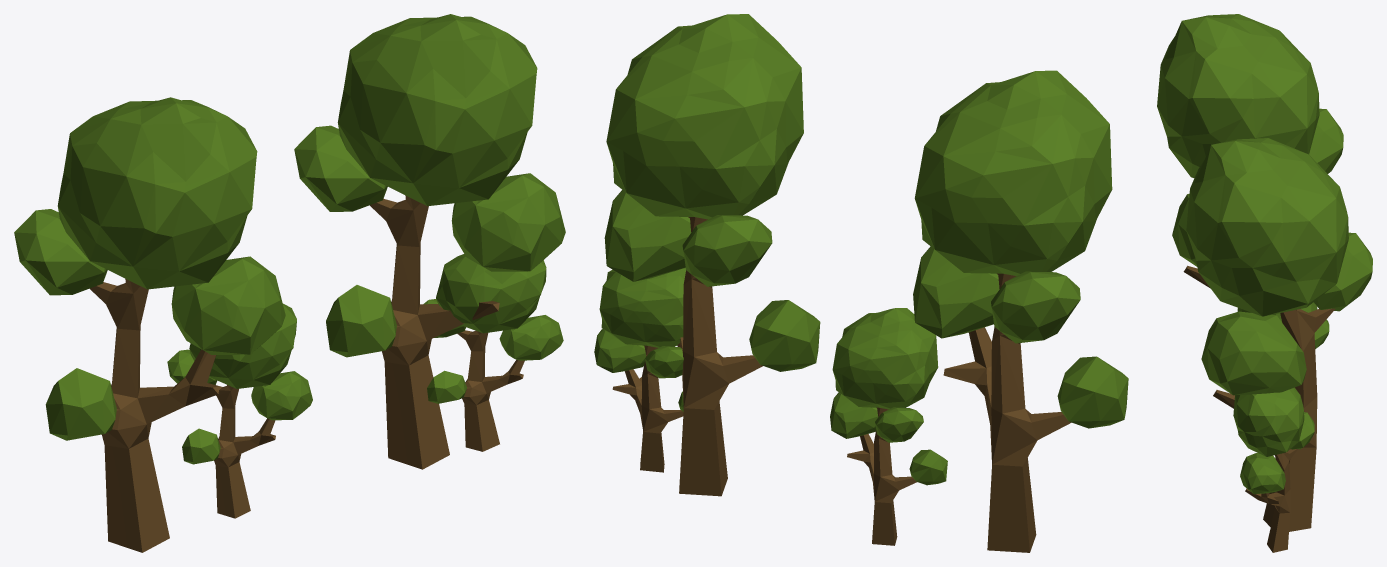
Rendered from trees.glb.
The picture shows the model from 3 angles, left to right: view 1: azimuth 30°, elevation 25°; view 2: azimuth 150°, elevation 25°; view 3: azimuth 270°, elevation 25°; orthographic projection. The views are drawn at different scales.
Parts seen in each view (by area): view 1: Tree.003, Tree, Tree.001, Tree.002; view 2: Tree.003, Tree, Tree.002, Tree.001; view 3: Tree, Tree.003, Tree.001, Tree.002.
Boxes of the visible parts, x1,y1,x2,y2 form: Tree.003: (14, 97, 285, 552); Tree: (294, 14, 565, 469); Tree.001: (423, 254, 563, 451); Tree.002: (167, 303, 312, 518); Tree.003: (913, 70, 1128, 552); Tree: (604, 14, 820, 496); Tree.002: (830, 308, 947, 545); Tree.001: (594, 268, 685, 472); Tree: (1186, 138, 1372, 531); Tree.003: (1157, 14, 1343, 288); Tree.001: (1233, 387, 1314, 552); Tree.002: (1237, 302, 1329, 348).
Size of the model in its own units: 28.32 by 24.28 by 12.01.
